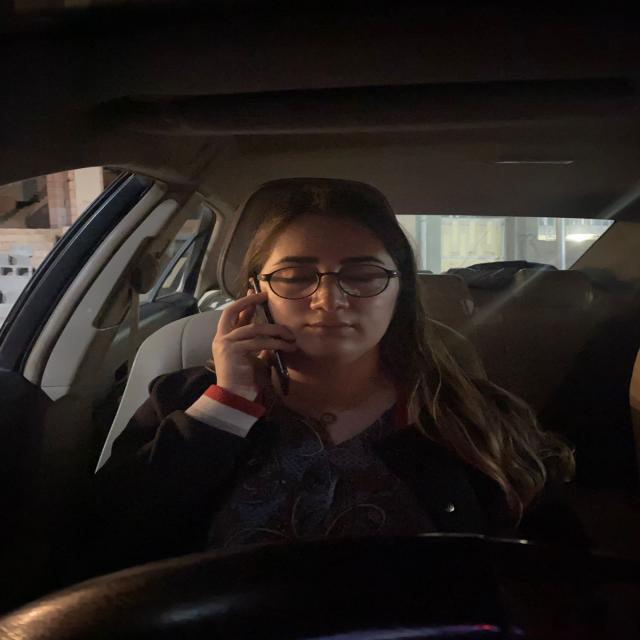phone: (245, 274, 288, 392)
